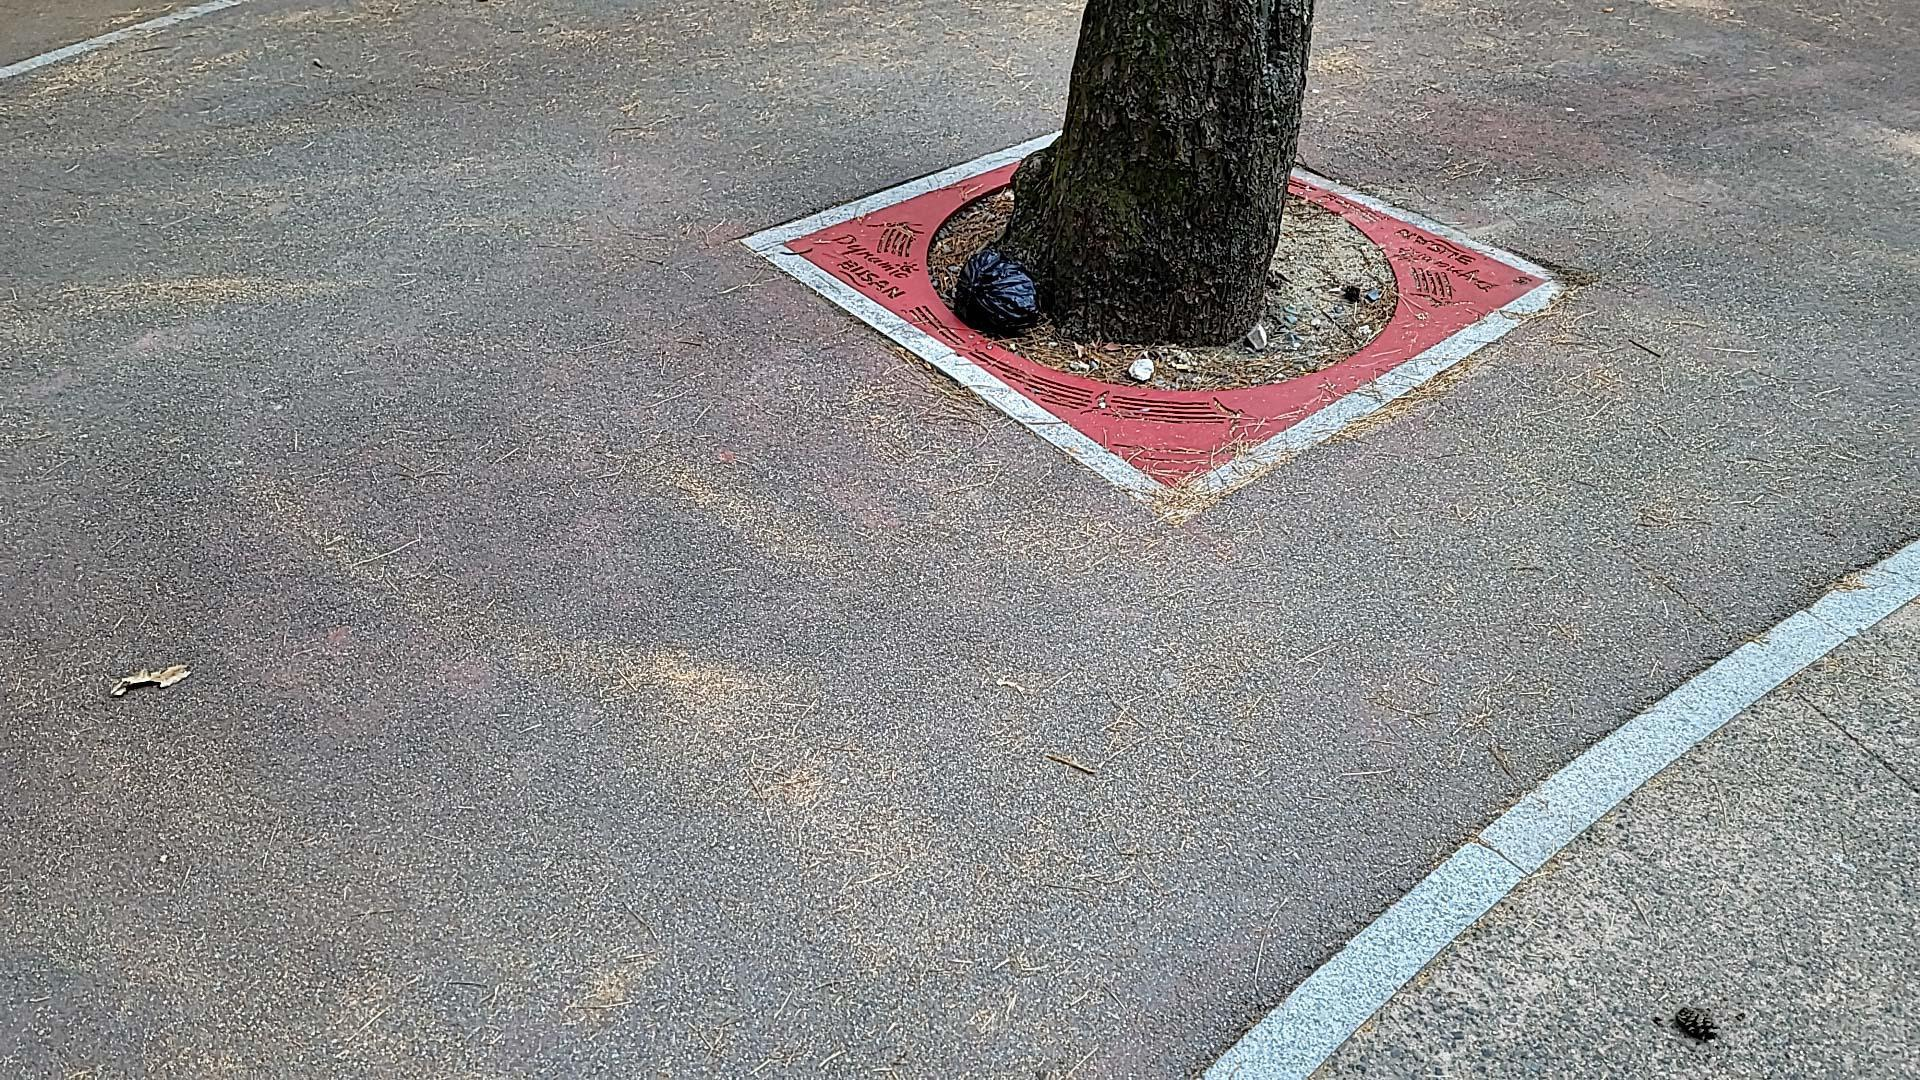black_bag: (948, 244, 1042, 344)
